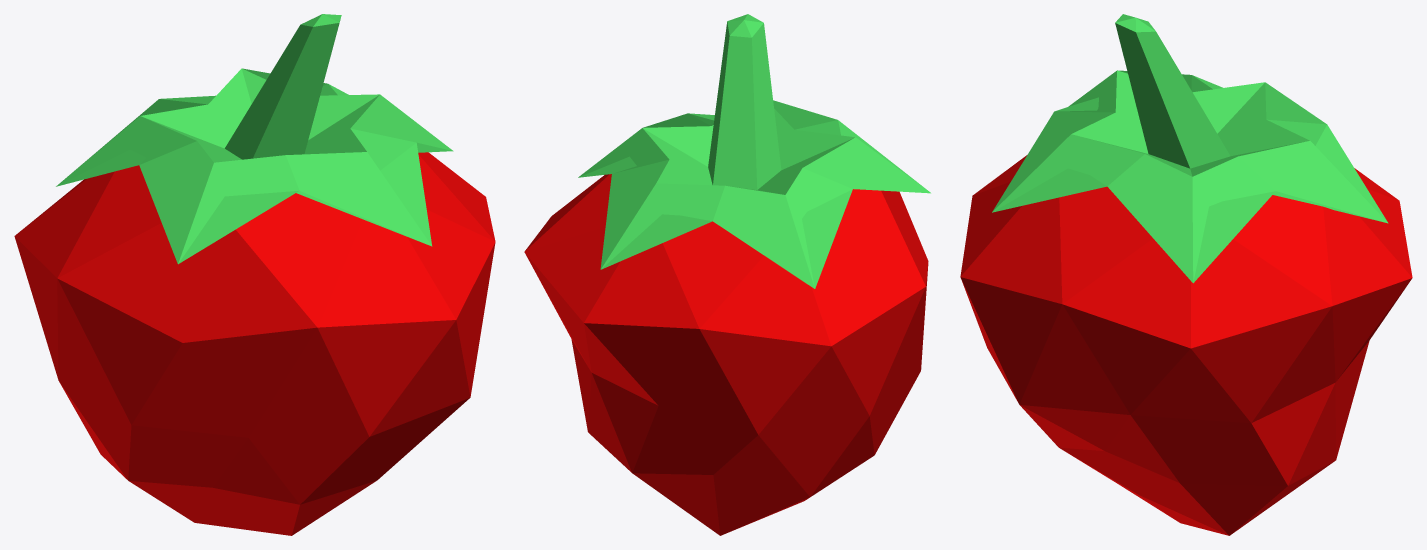
The model's file is Strawberry.fbx.
The picture shows the model from 3 angles, left to right: view 1: azimuth 30°, elevation 25°; view 2: azimuth 150°, elevation 25°; view 3: azimuth 270°, elevation 25°; orthographic projection. The views are drawn at different scales.
Visible parts, largest first — view 1: Strawberry_LOD0; view 2: Strawberry_LOD0; view 3: Strawberry_LOD0.
Part boxes in pixels (x1,y1,x2,y2): Strawberry_LOD0: (14, 14, 495, 535); Strawberry_LOD0: (524, 14, 930, 535); Strawberry_LOD0: (960, 14, 1412, 535).
Size of what is drawn, in the model's own units: 185 by 219 by 176.
